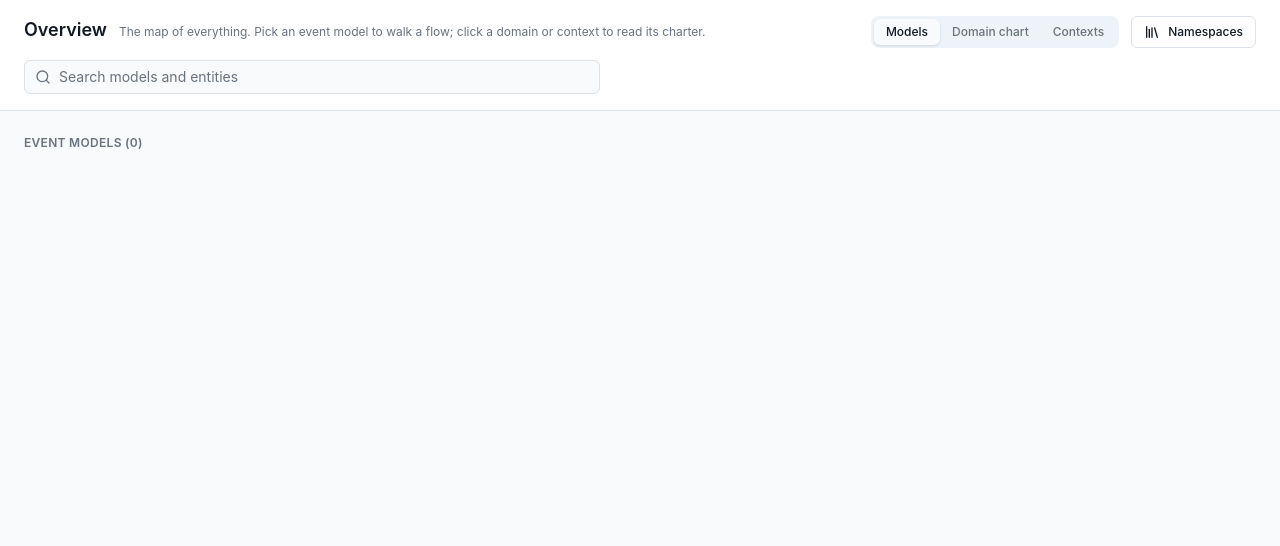
Scenario: OverviewPage › one view at a time › names the query when a search finds nothing
Step 1. Type "order" into the field with placeholder "Search models and entities" → point(324, 77), box [59,67,589,87]
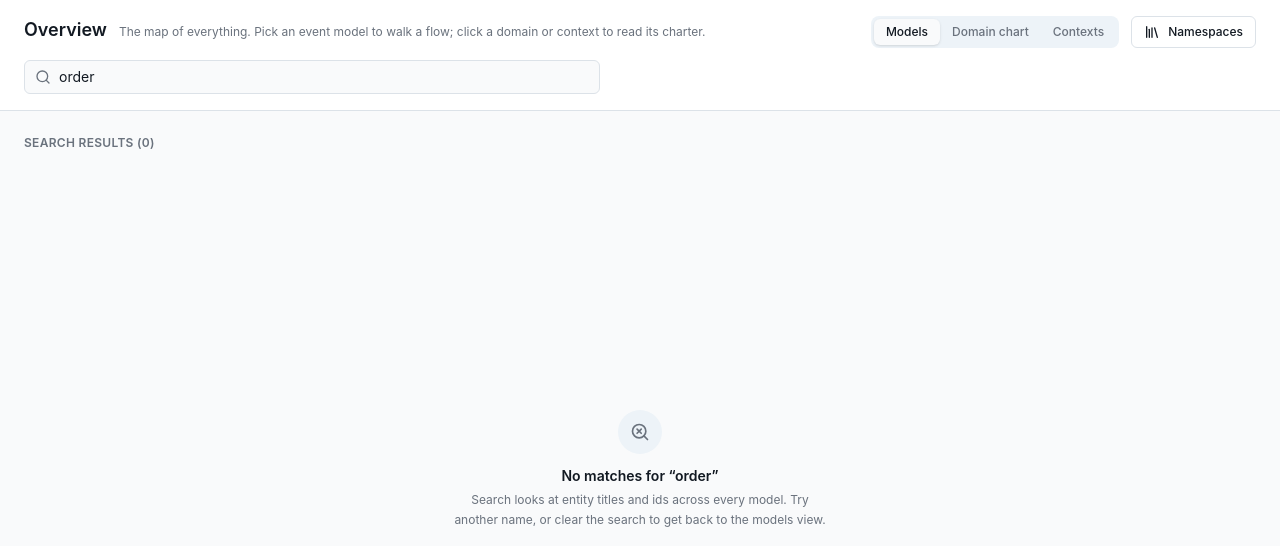
Now the text "No matches for “order”" is shown, box [561,467,719,484]
Now the text "get back to the models view" is shown, box [448,490,832,529]
